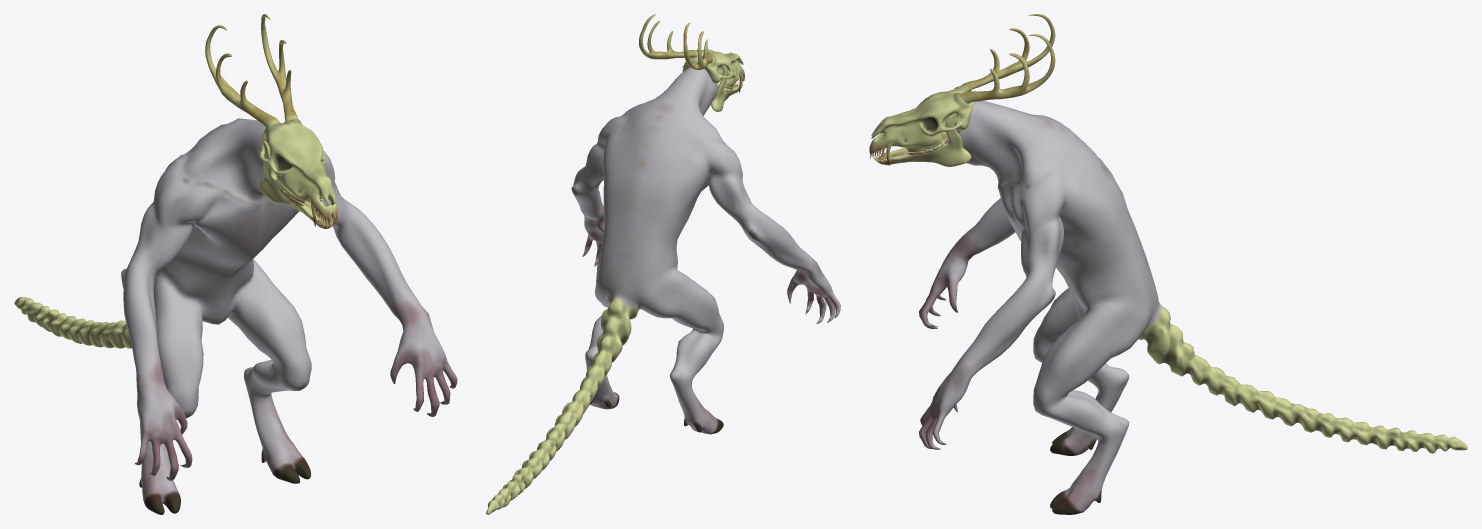
The model's file is Wendigo.fbx.
3 views of the same model, side by side, from view 1: azimuth 30°, elevation 25°; view 2: azimuth 150°, elevation 25°; view 3: azimuth 270°, elevation 25° (orthographic). The views are drawn at different scales.
Visible parts, largest first — view 1: Body, Skull, Jaw; view 2: Body, Skull, Jaw; view 3: Body, Skull, Jaw.
Part boxes in pixels (x1=…): Body: x1=14, y1=118, x2=457, y2=514; Skull: x1=205, y1=14, x2=337, y2=226; Jaw: x1=259, y1=130, x2=335, y2=228; Body: x1=486, y1=67, x2=840, y2=514; Skull: x1=639, y1=14, x2=744, y2=92; Jaw: x1=710, y1=65, x2=742, y2=111; Body: x1=919, y1=101, x2=1467, y2=514; Skull: x1=869, y1=14, x2=1055, y2=165; Jaw: x1=873, y1=113, x2=971, y2=166.
Size of the model in its own units: 701 by 1019 by 1211.
Materials: 1 (1 with a texture image).
